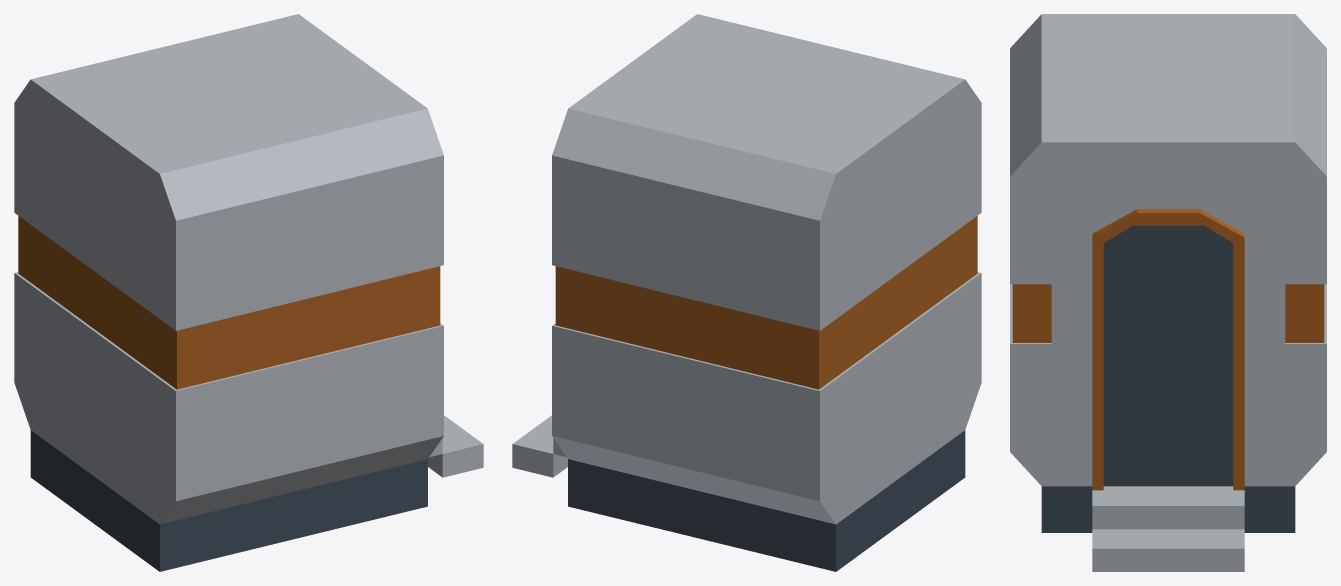
Rendered from TeraMine1.fbx.
3 views of the same model, side by side, from view 1: azimuth 30°, elevation 25°; view 2: azimuth 150°, elevation 25°; view 3: azimuth 270°, elevation 25° (orthographic).
Parts seen in each view (by area): view 1: polySurface10, polySurface11, pCube13group2, group1pCube17; view 2: polySurface10, polySurface11, pCube13group2, group1pCube17; view 3: polySurface10, polySurface3, polySurface6, group1pCube16, group1pCube17, pCube13group2, polySurface11.
Part boxes in pixels (box(x1,y1,x2,y2)): polySurface10: box(14, 14, 443, 524); polySurface11: box(18, 216, 440, 389); pCube13group2: box(30, 430, 427, 571); group1pCube17: box(428, 415, 483, 477); polySurface10: box(552, 14, 981, 524); polySurface11: box(555, 216, 977, 389); pCube13group2: box(568, 430, 965, 571); group1pCube17: box(512, 415, 567, 477); polySurface10: box(1010, 14, 1326, 486); polySurface3: box(1103, 225, 1233, 486); polySurface6: box(1092, 209, 1244, 490); group1pCube16: box(1092, 486, 1244, 529); group1pCube17: box(1092, 529, 1244, 571); pCube13group2: box(1041, 486, 1295, 532); polySurface11: box(1012, 284, 1324, 342).
Bounding box in the file's own units: 2.8 × 3.05 × 2.24.
